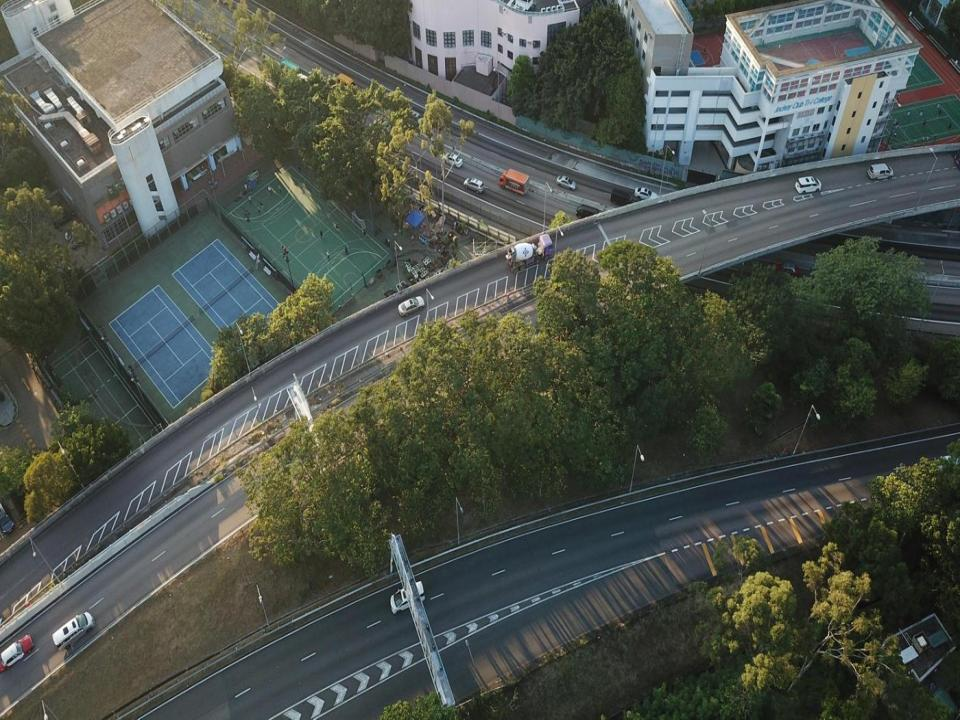car: (0, 634, 34, 673), (932, 451, 960, 477), (397, 294, 424, 317), (71, 230, 91, 252), (53, 209, 76, 228), (635, 186, 658, 202), (373, 117, 394, 134), (556, 174, 577, 189), (463, 178, 485, 192), (64, 224, 83, 240), (443, 152, 462, 167)
truck: (278, 58, 357, 106), (506, 232, 554, 273), (499, 169, 529, 194)
van: (51, 612, 94, 652), (389, 579, 424, 613), (0, 502, 17, 532), (795, 175, 821, 194), (398, 105, 421, 126), (867, 163, 893, 180), (576, 204, 599, 222), (610, 189, 633, 206)
